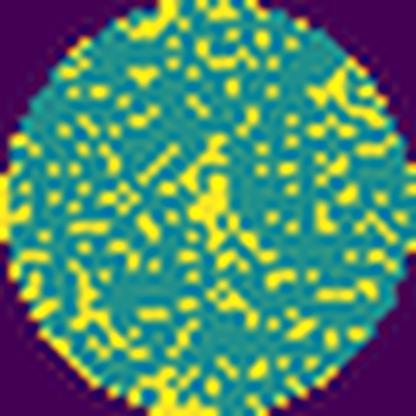Loc: (174, 126, 234, 198), (141, 366, 221, 416), (192, 168, 228, 256)
